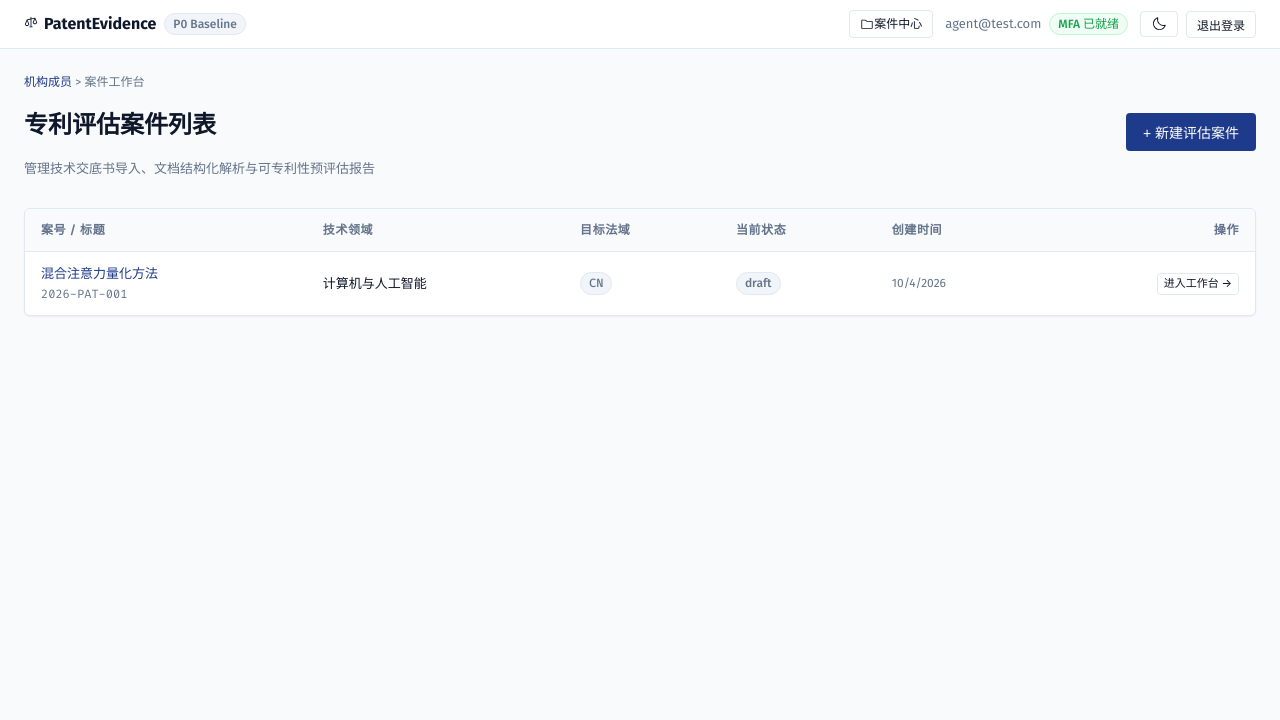
Scenario: Cases and Document Web Surfaces › renders cases list and opens create case modal
Expected: the heading "专利评估案件列表" is shown, top-left (24, 111), bottom-right (216, 139)
Expected: the link "混合注意力量化方法" is shown, top-left (41, 266), bottom-right (158, 281)
Click create case button
Step 1. Click the button "+ 新建评估案件" → (1191, 132), box top-left (1126, 113), bottom-right (1256, 151)
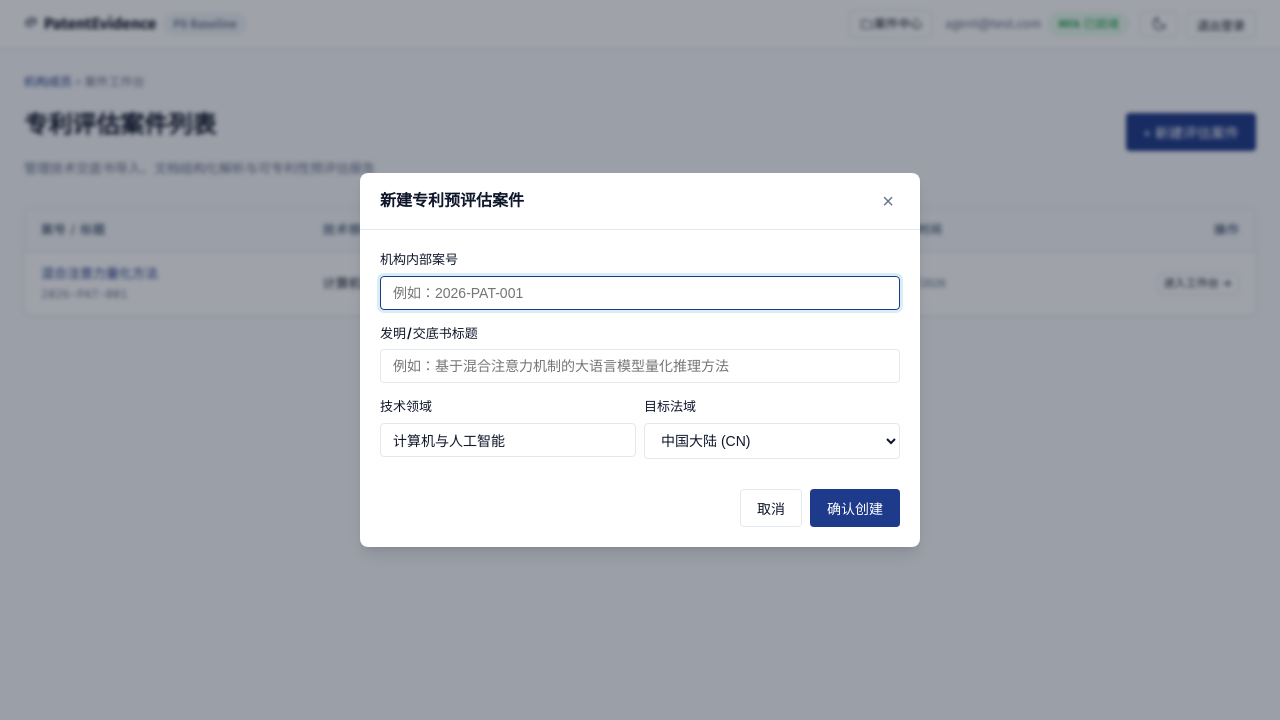
Result: the heading "新建专利预评估案件" is shown at top-left (380, 189), bottom-right (524, 213)
